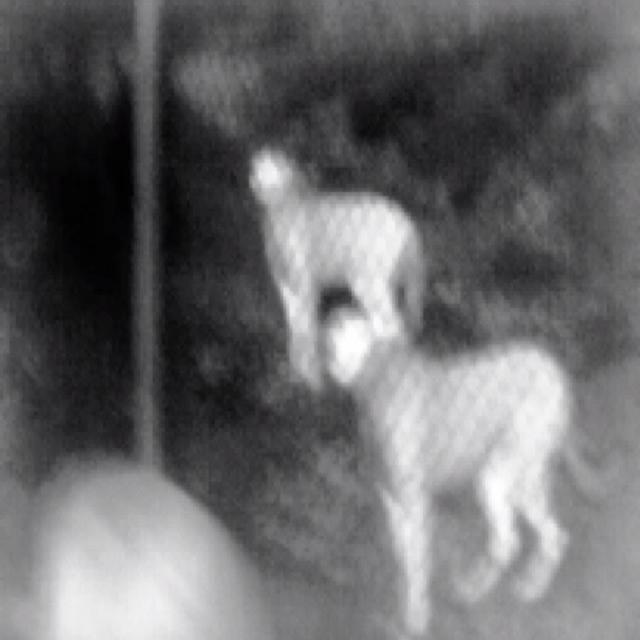cheetah: (328, 311, 571, 633), (250, 149, 423, 388)
